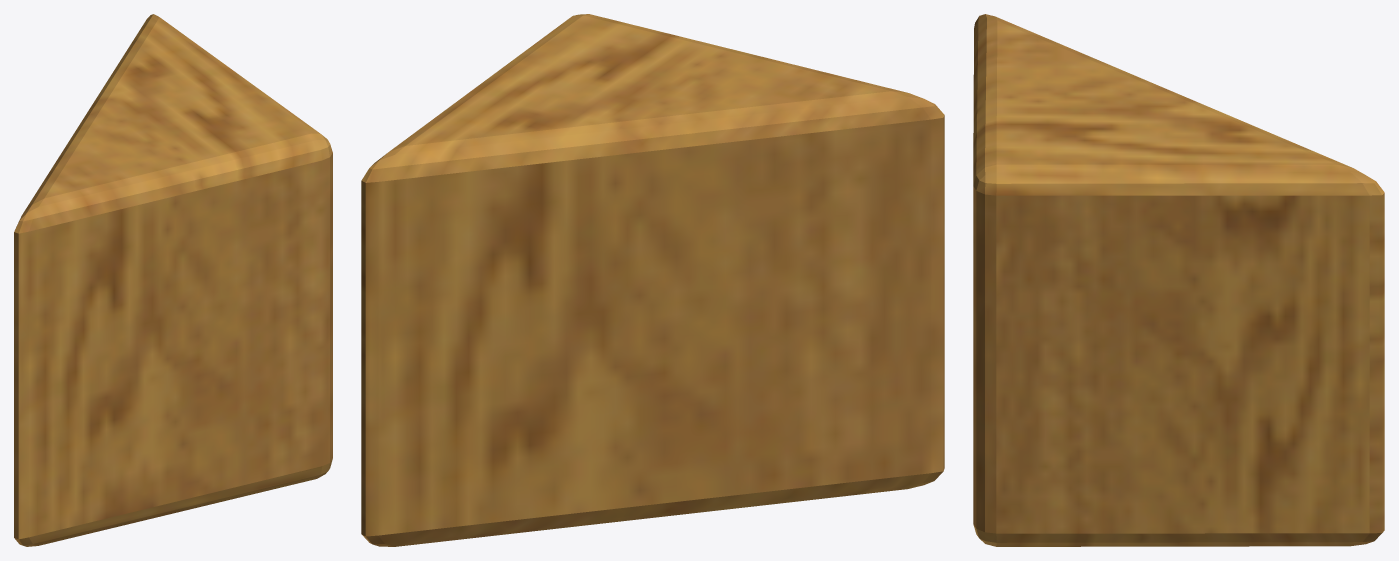
Rendered from BrownTriPrisim.fbx.
The picture shows the model from 3 angles, left to right: view 1: azimuth 30°, elevation 25°; view 2: azimuth 150°, elevation 25°; view 3: azimuth 270°, elevation 25°; orthographic projection. The views are drawn at different scales.
Visible parts, largest first — view 1: Cylinder.002; view 2: Cylinder.002; view 3: Cylinder.002.
Boxes of the visible parts, left/top/right/bottom form: Cylinder.002: left=14, top=14, right=332, bottom=546; Cylinder.002: left=361, top=14, right=944, bottom=546; Cylinder.002: left=973, top=14, right=1384, bottom=546.
Bounding box in the file's own units: 393 × 400 × 392.
